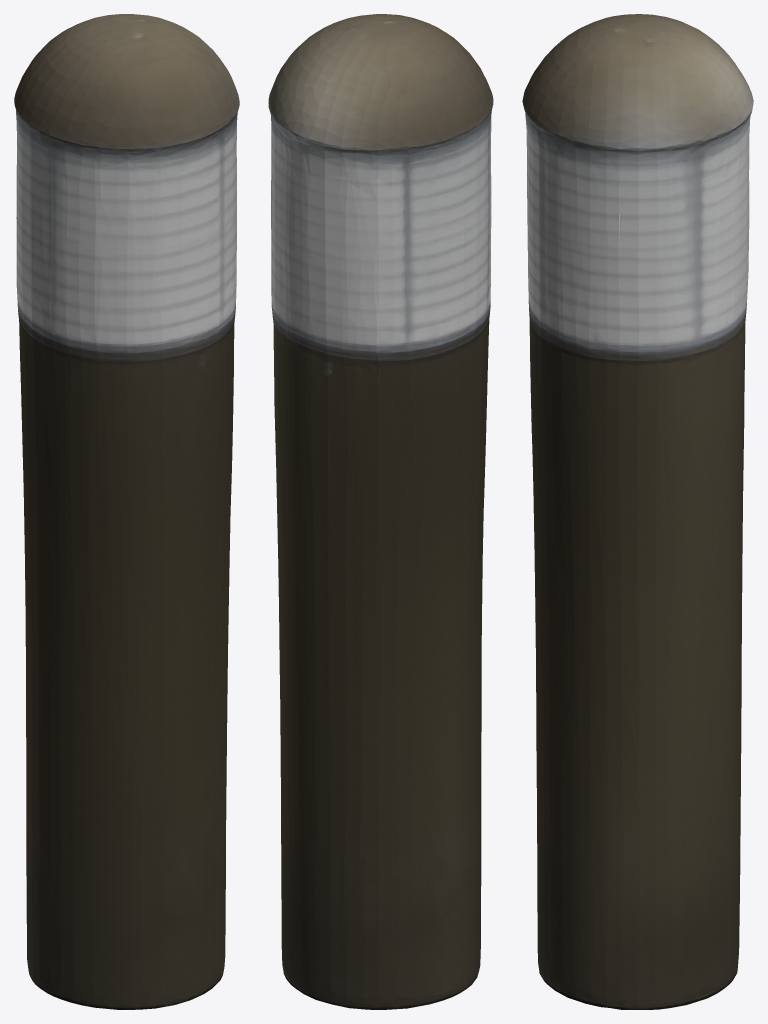
The model's file is light pole.fbx.
The picture shows the model from 3 angles, left to right: view 1: azimuth 30°, elevation 25°; view 2: azimuth 150°, elevation 25°; view 3: azimuth 270°, elevation 25°; orthographic projection.
Visible parts, largest first — view 1: world; view 2: world; view 3: world.
Boxes of the visible parts, left/top/right/bottom form: world: left=14, top=14, right=239, bottom=1009; world: left=268, top=14, right=493, bottom=1009; world: left=522, top=14, right=753, bottom=1009.
Size of the model in its own units: 0.2161 by 1 by 0.2226.
Materials: 1 (1 with a texture image).
